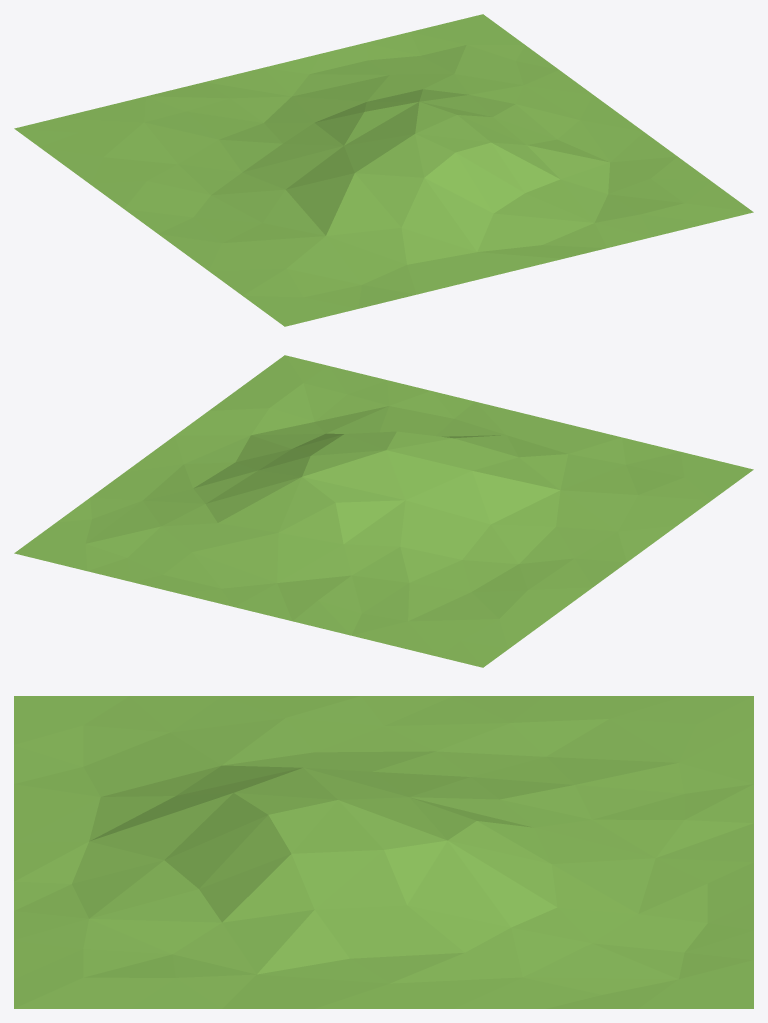
Rendered from MT_Terrain_S_a_09_LOD.fbx.
The picture shows the model from 3 angles, top to bottom: view 1: azimuth 30°, elevation 25°; view 2: azimuth 150°, elevation 25°; view 3: azimuth 270°, elevation 25°; orthographic projection. The views are drawn at different scales.
Visible parts, largest first — view 1: MT_Terrain_S_a_09_LOD0; view 2: MT_Terrain_S_a_09_LOD0; view 3: MT_Terrain_S_a_09_LOD0.
Boxes of the visible parts, x1,y1,x2,y2 form: MT_Terrain_S_a_09_LOD0: (14, 14, 753, 326); MT_Terrain_S_a_09_LOD0: (14, 355, 753, 667); MT_Terrain_S_a_09_LOD0: (14, 696, 753, 1008).
Size of what is drawn, in the model's own units: 2500 by 247 by 2500.
